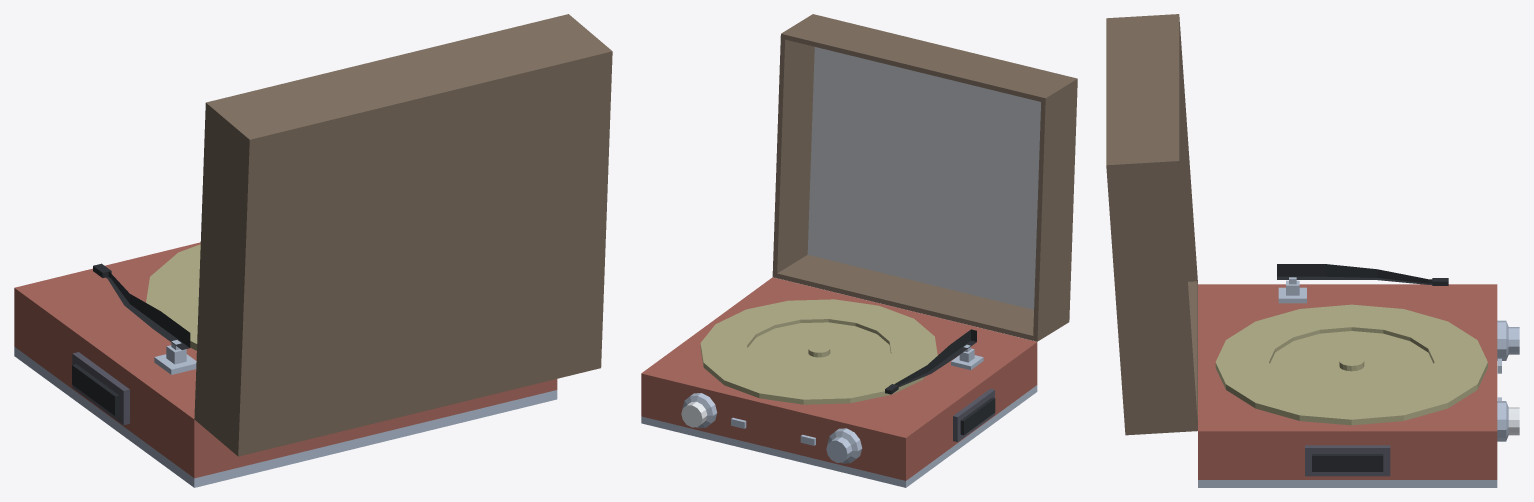
Rendered from Gramophone.fbx.
3 views of the same model, side by side, from view 1: azimuth 30°, elevation 25°; view 2: azimuth 150°, elevation 25°; view 3: azimuth 270°, elevation 25° (orthographic). The views are drawn at different scales.
Parts seen in each view (by area): view 1: Plane.172, Plane.060, Plane.061; view 2: Plane.172, Plane.060, Plane.061; view 3: Plane.060, Plane.172, Plane.061.
Boxes of the visible parts, <box> form: Plane.172: <box>194,14,612,456</box>; Plane.060: <box>14,242,557,487</box>; Plane.061: <box>93,263,190,349</box>; Plane.172: <box>772,14,1077,341</box>; Plane.060: <box>641,277,1037,487</box>; Plane.061: <box>885,329,976,394</box>; Plane.060: <box>1198,277,1519,487</box>; Plane.172: <box>1106,14,1197,435</box>; Plane.061: <box>1277,264,1448,285</box>.
Bounding box in the file's own units: 1.19 × 1.33 × 1.16.
